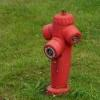a fire hydrant: (46, 13, 76, 99)
